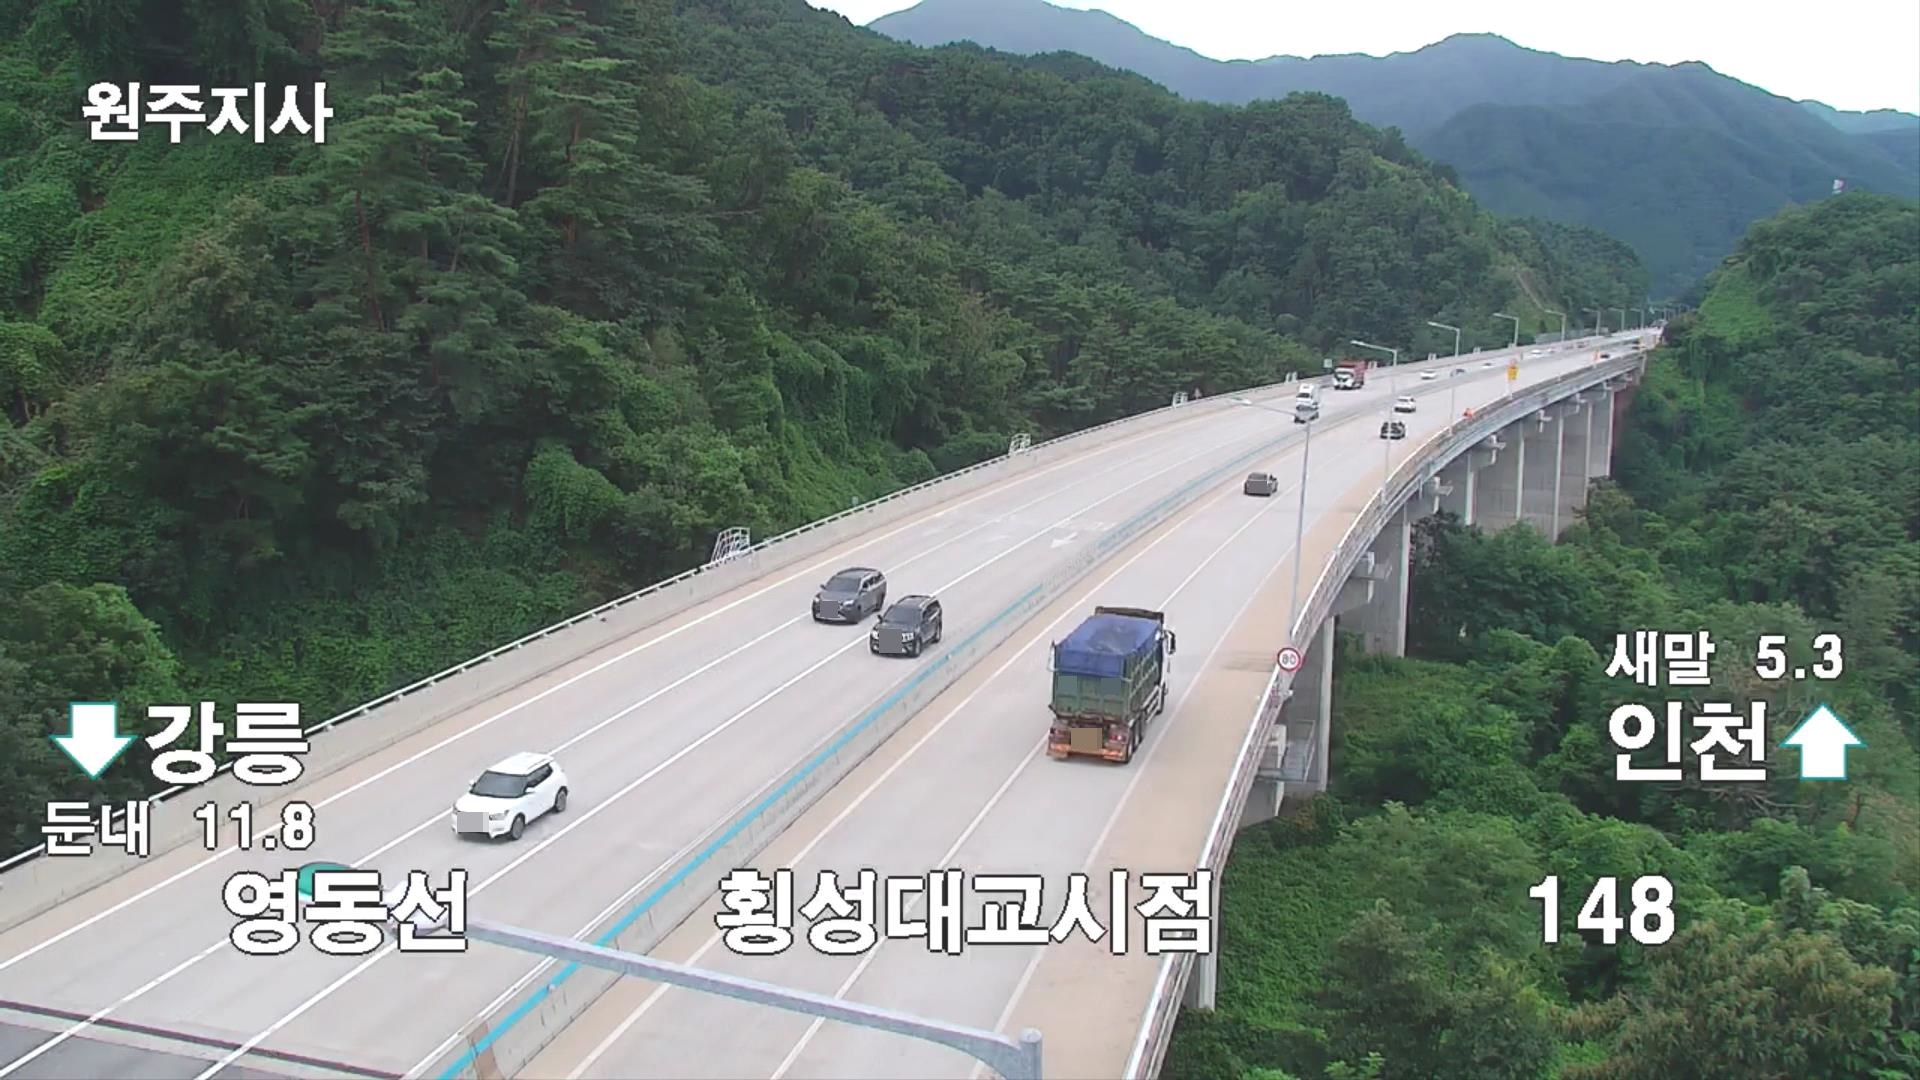정상차량: (1046, 605, 1175, 764)
